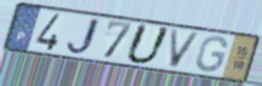4: (34, 13, 64, 52)
7: (102, 19, 135, 61)
G: (195, 35, 230, 74)
J: (64, 16, 103, 58)
U: (123, 22, 173, 66)
V: (169, 28, 203, 70)
